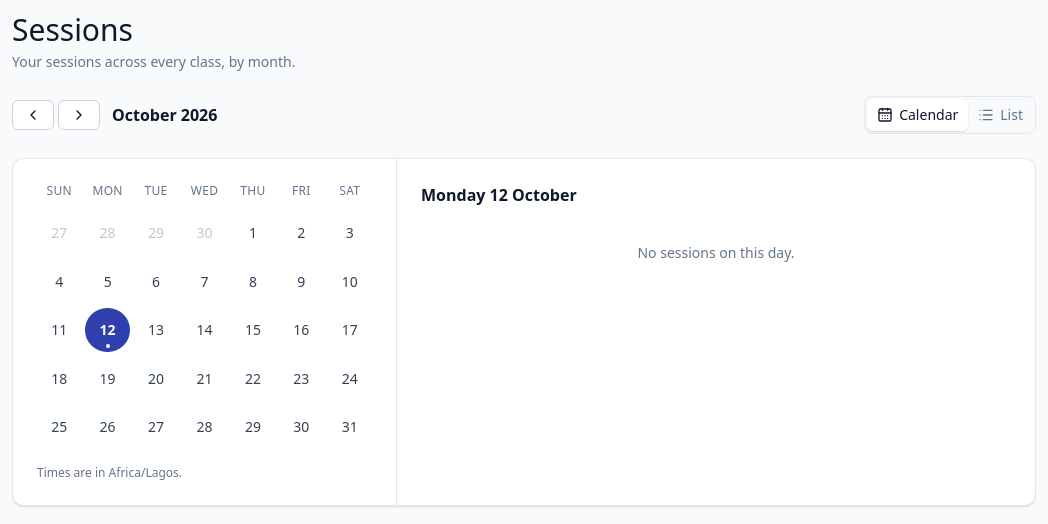
Scenario: SessionsCalendarPage › pages months and still renders when storage is blocked
What coordinates should you click on to do the following:
click the button named "Next month"
I would click on:
 (79, 115)
Its box is [58,100,100,130].
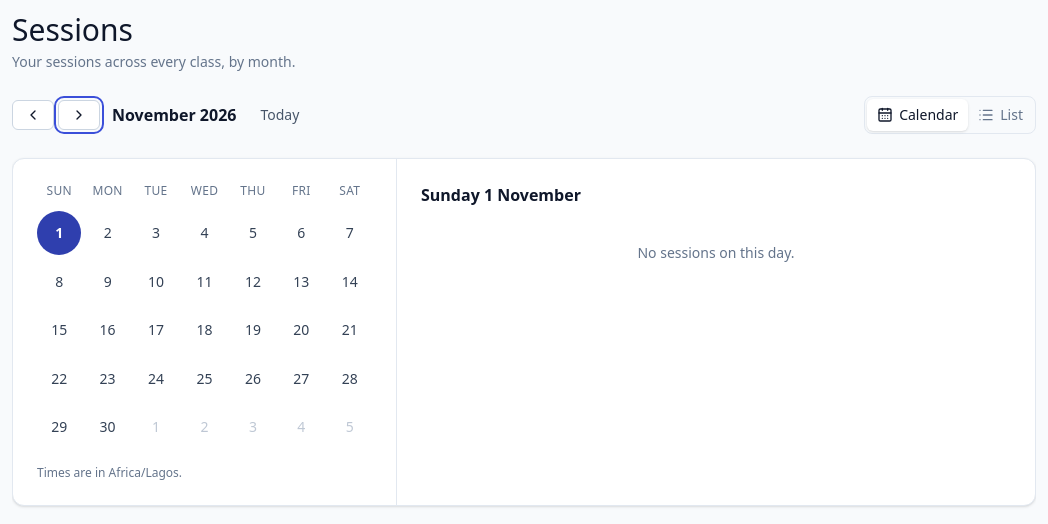
Result: the heading "November 2026" is shown at [112,103,236,127]
Result: the button "Today" is shown at [248,99,311,131]
